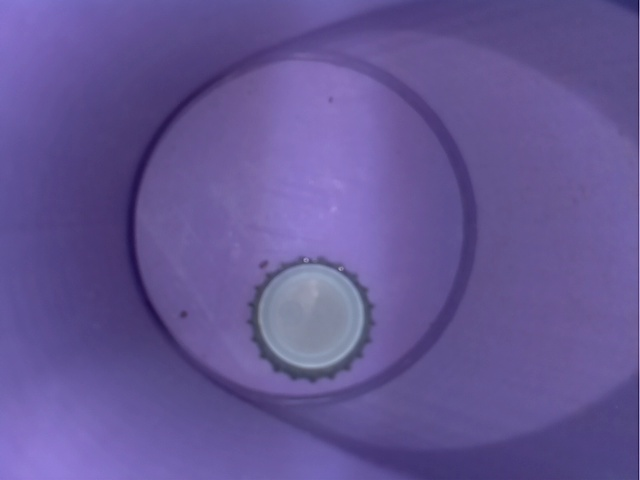capsule: (247, 240, 379, 396)
